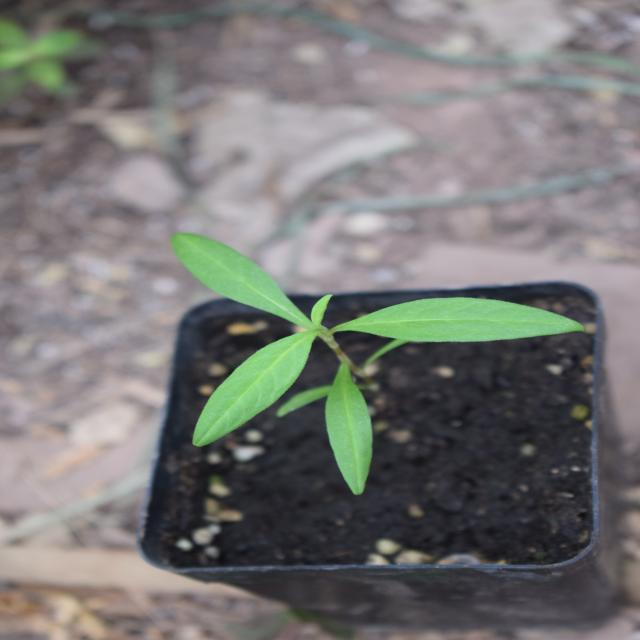white_smart_weed: (150, 162, 397, 587)
